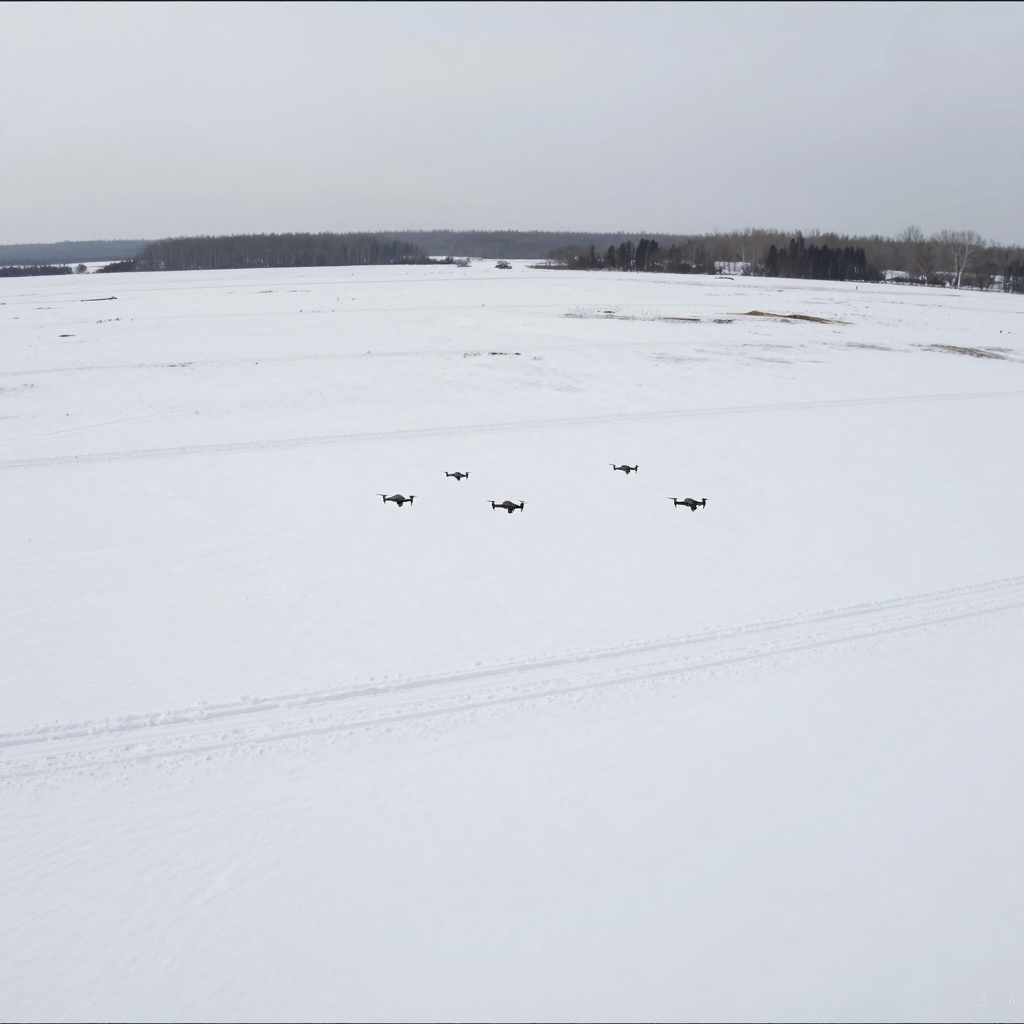drone: (666, 497, 708, 512), (486, 500, 529, 514), (376, 494, 417, 507), (608, 464, 639, 475), (444, 471, 474, 481)
